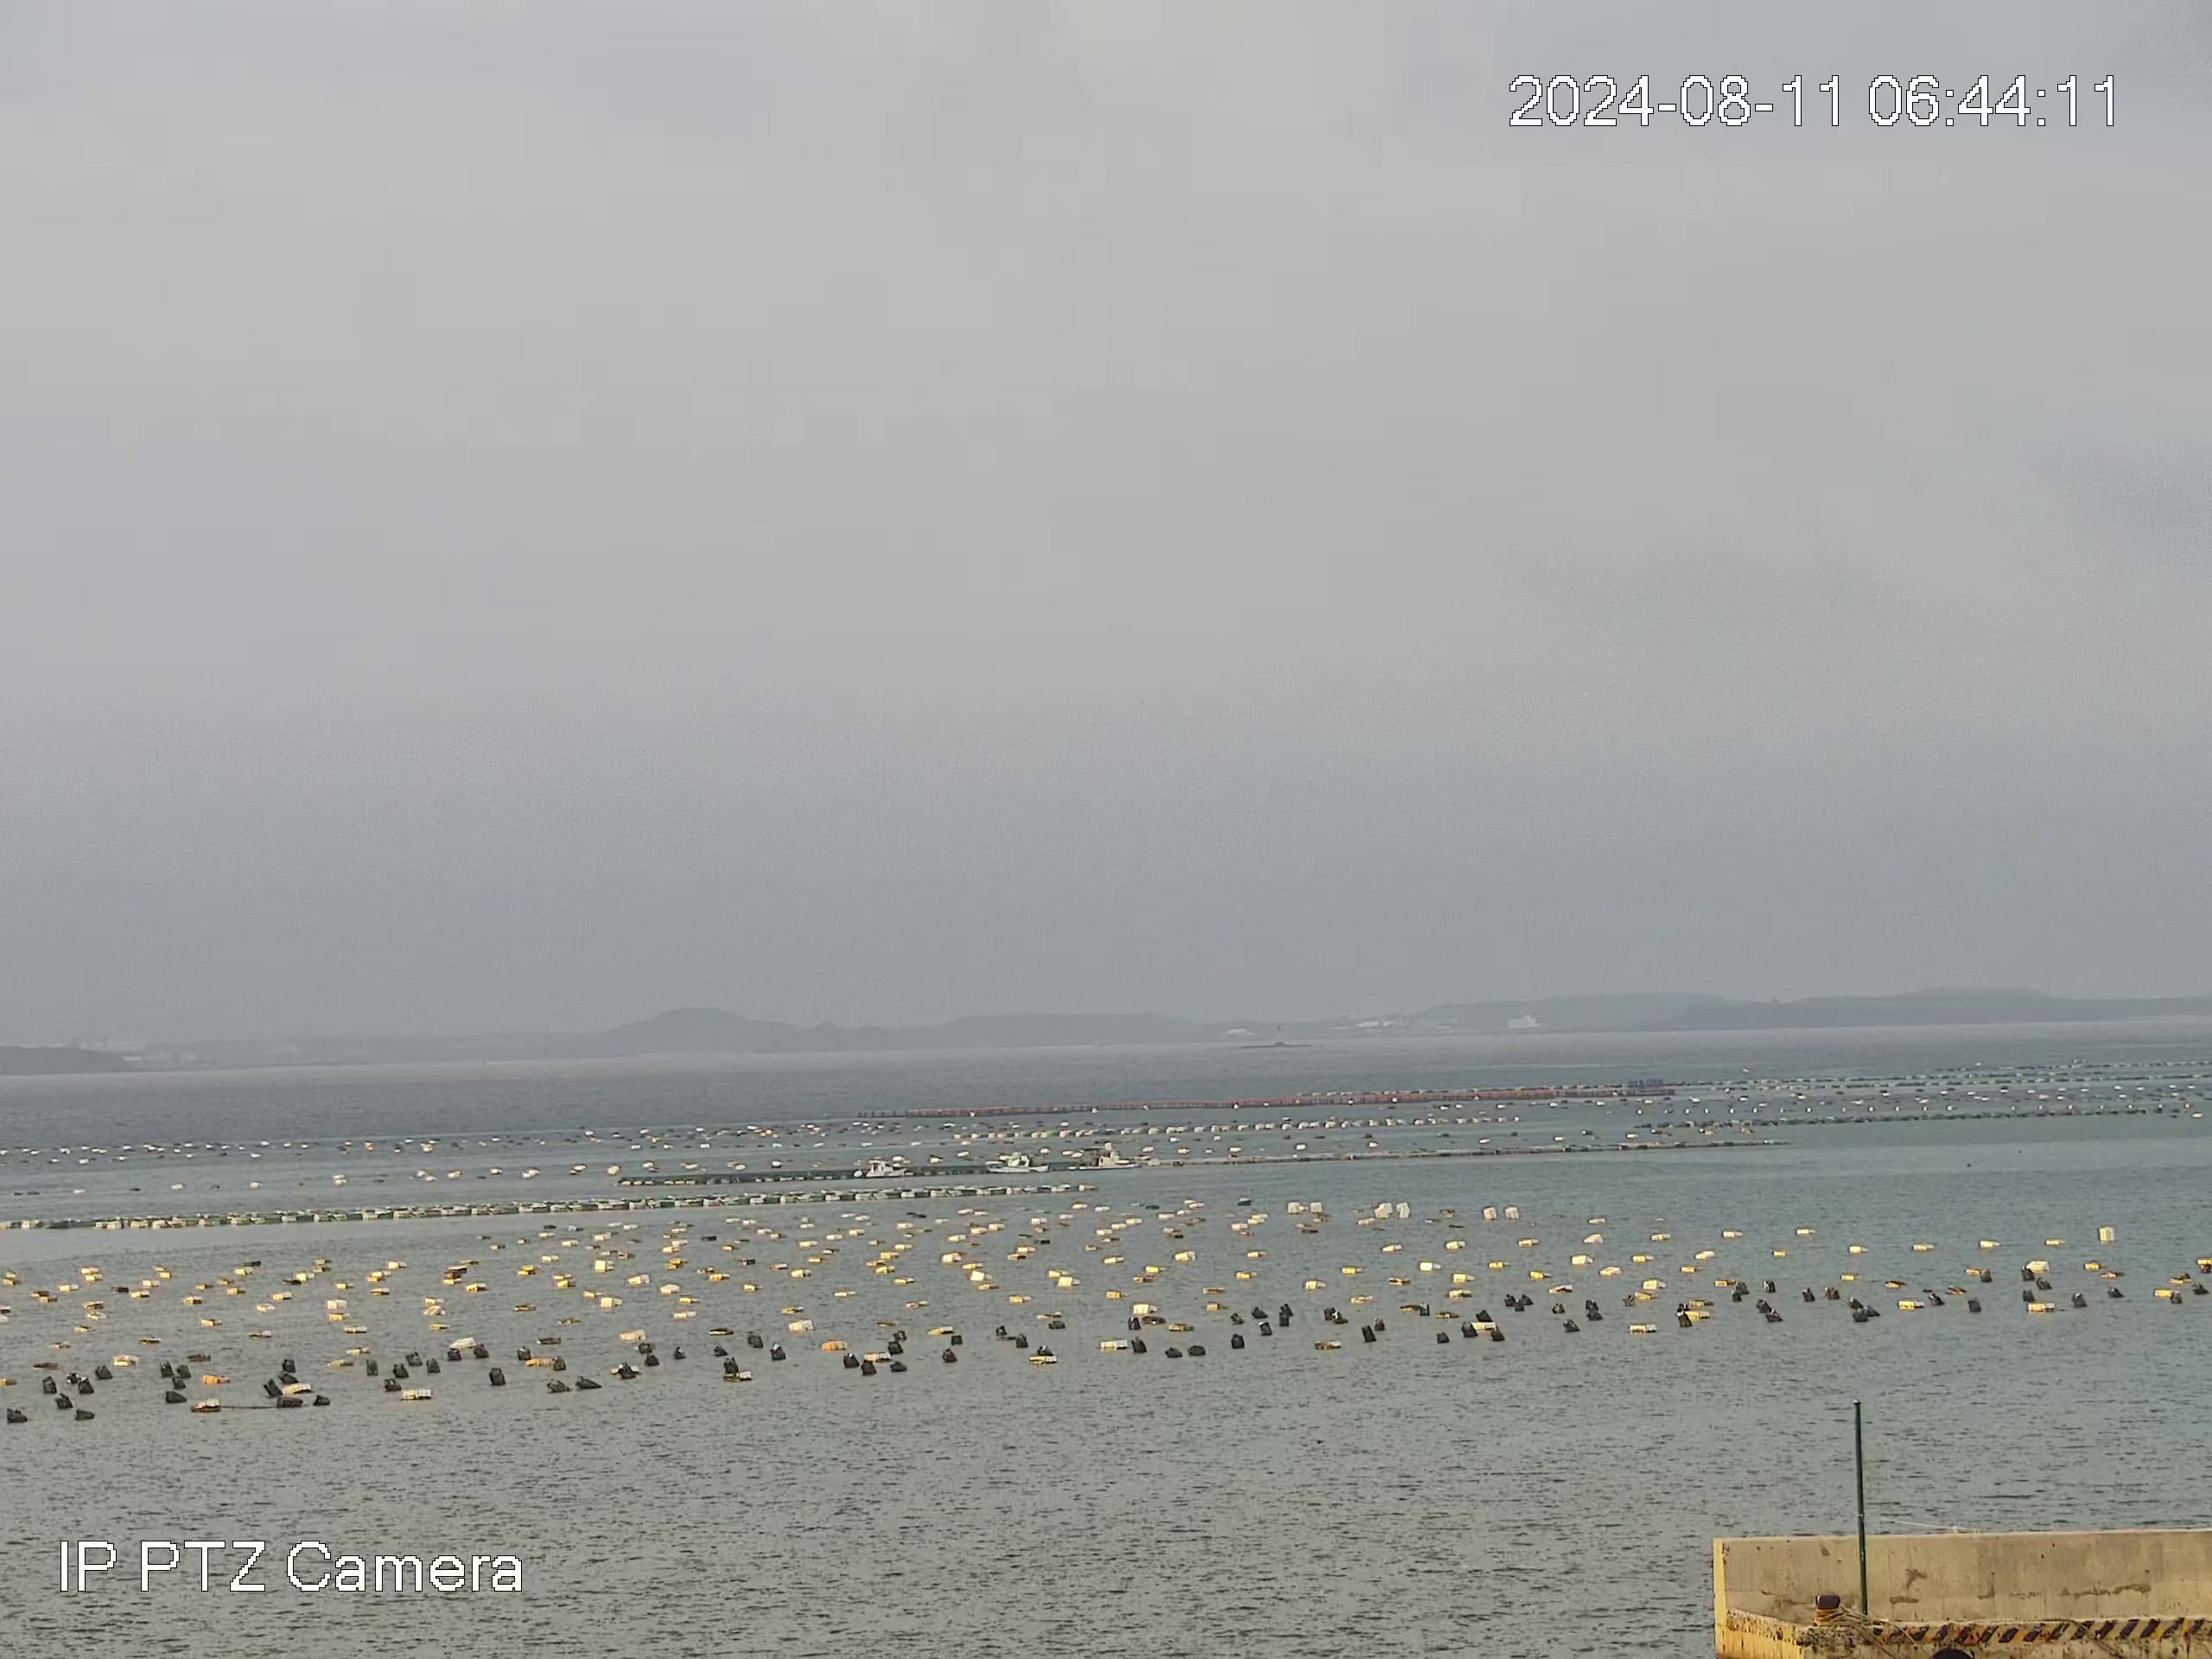boat: (984, 1154, 1049, 1175), (852, 1157, 907, 1180), (1066, 1152, 1116, 1171)
